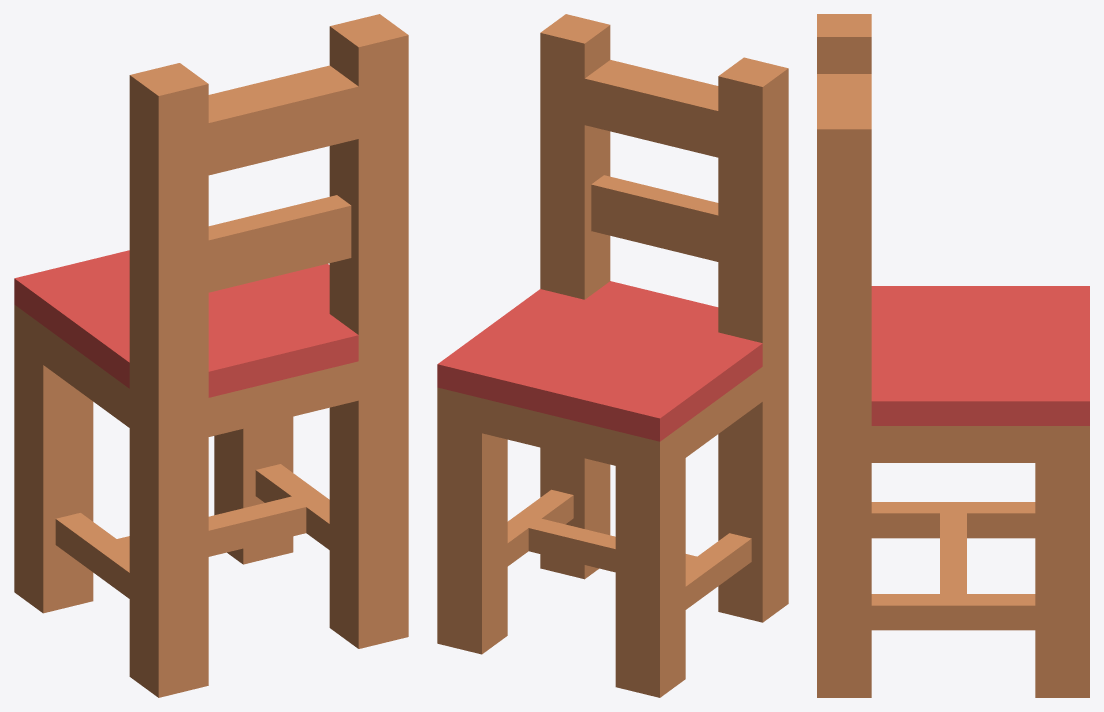
The model's file is chairCushion.obj.
3 renders of one model, left to right at view 1: azimuth 30°, elevation 25°; view 2: azimuth 150°, elevation 25°; view 3: azimuth 270°, elevation 25°, orthographic. The views are drawn at different scales.
Visible parts, largest first — view 1: chairCushion; view 2: chairCushion; view 3: chairCushion.
Part boxes in pixels (x1,y1,x2,y2): chairCushion: (14, 14, 408, 697); chairCushion: (437, 14, 788, 697); chairCushion: (817, 14, 1089, 697).
Bounding box in the file's own units: 0.2 × 0.46 × 0.2.
